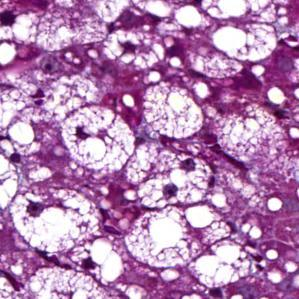ballooning: (6, 187, 106, 260), (60, 104, 137, 173), (104, 24, 175, 69)
